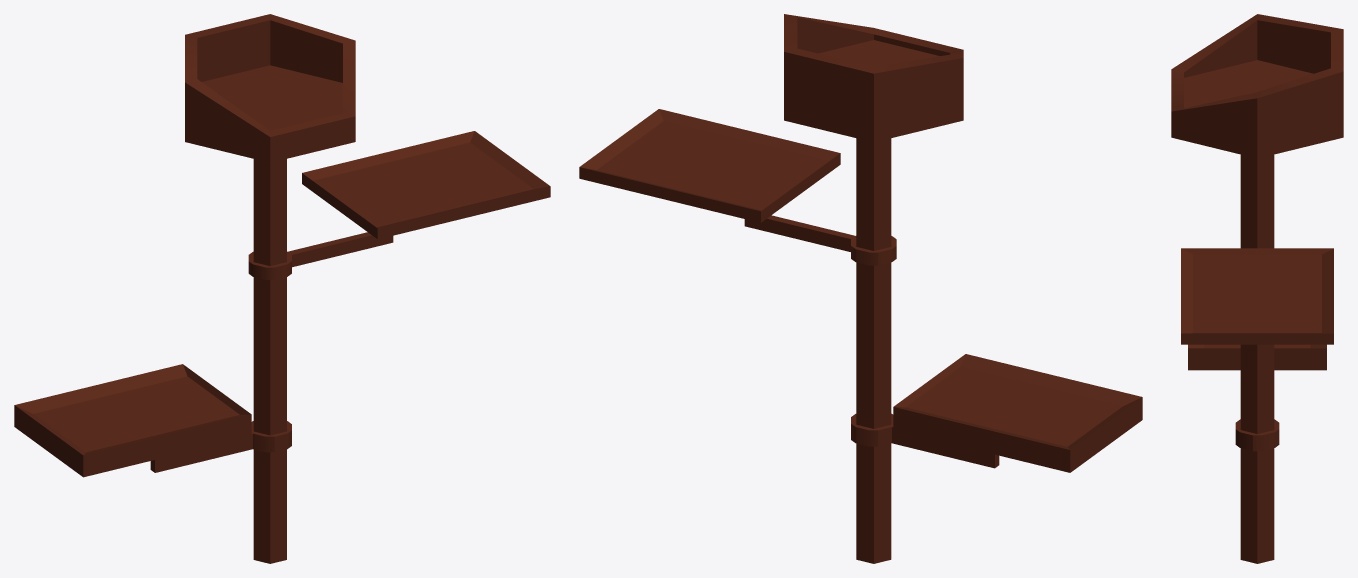
The model's file is Rascador.FBX.
3 renders of one model, left to right at view 1: azimuth 30°, elevation 25°; view 2: azimuth 150°, elevation 25°; view 3: azimuth 270°, elevation 25°, orthographic. The views are drawn at different scales.
Parts seen in each view (by area): view 1: Rascador; view 2: Rascador; view 3: Rascador.
Part boxes in pixels (box(x1,y1,x2,y2)): Rascador: box(14, 14, 550, 563); Rascador: box(579, 14, 1142, 563); Rascador: box(1171, 14, 1343, 563).
Size of the model in its own units: 190 by 196 by 60.69.
